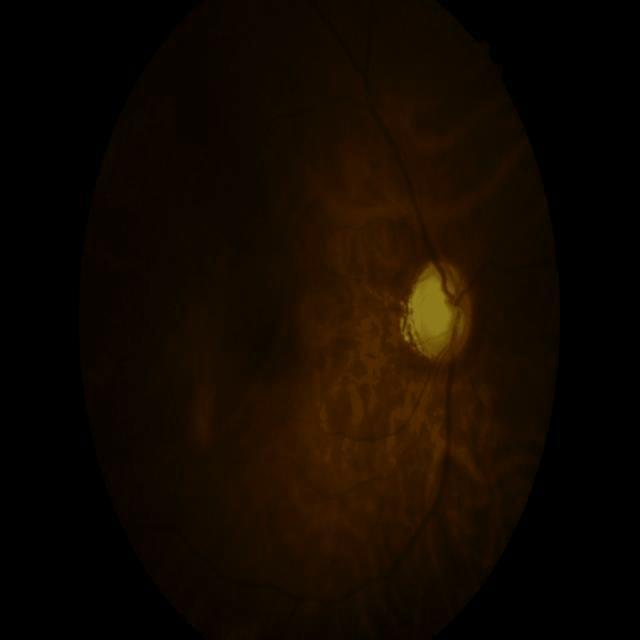cup: (420, 278, 460, 348)
disk: (407, 260, 472, 362)
